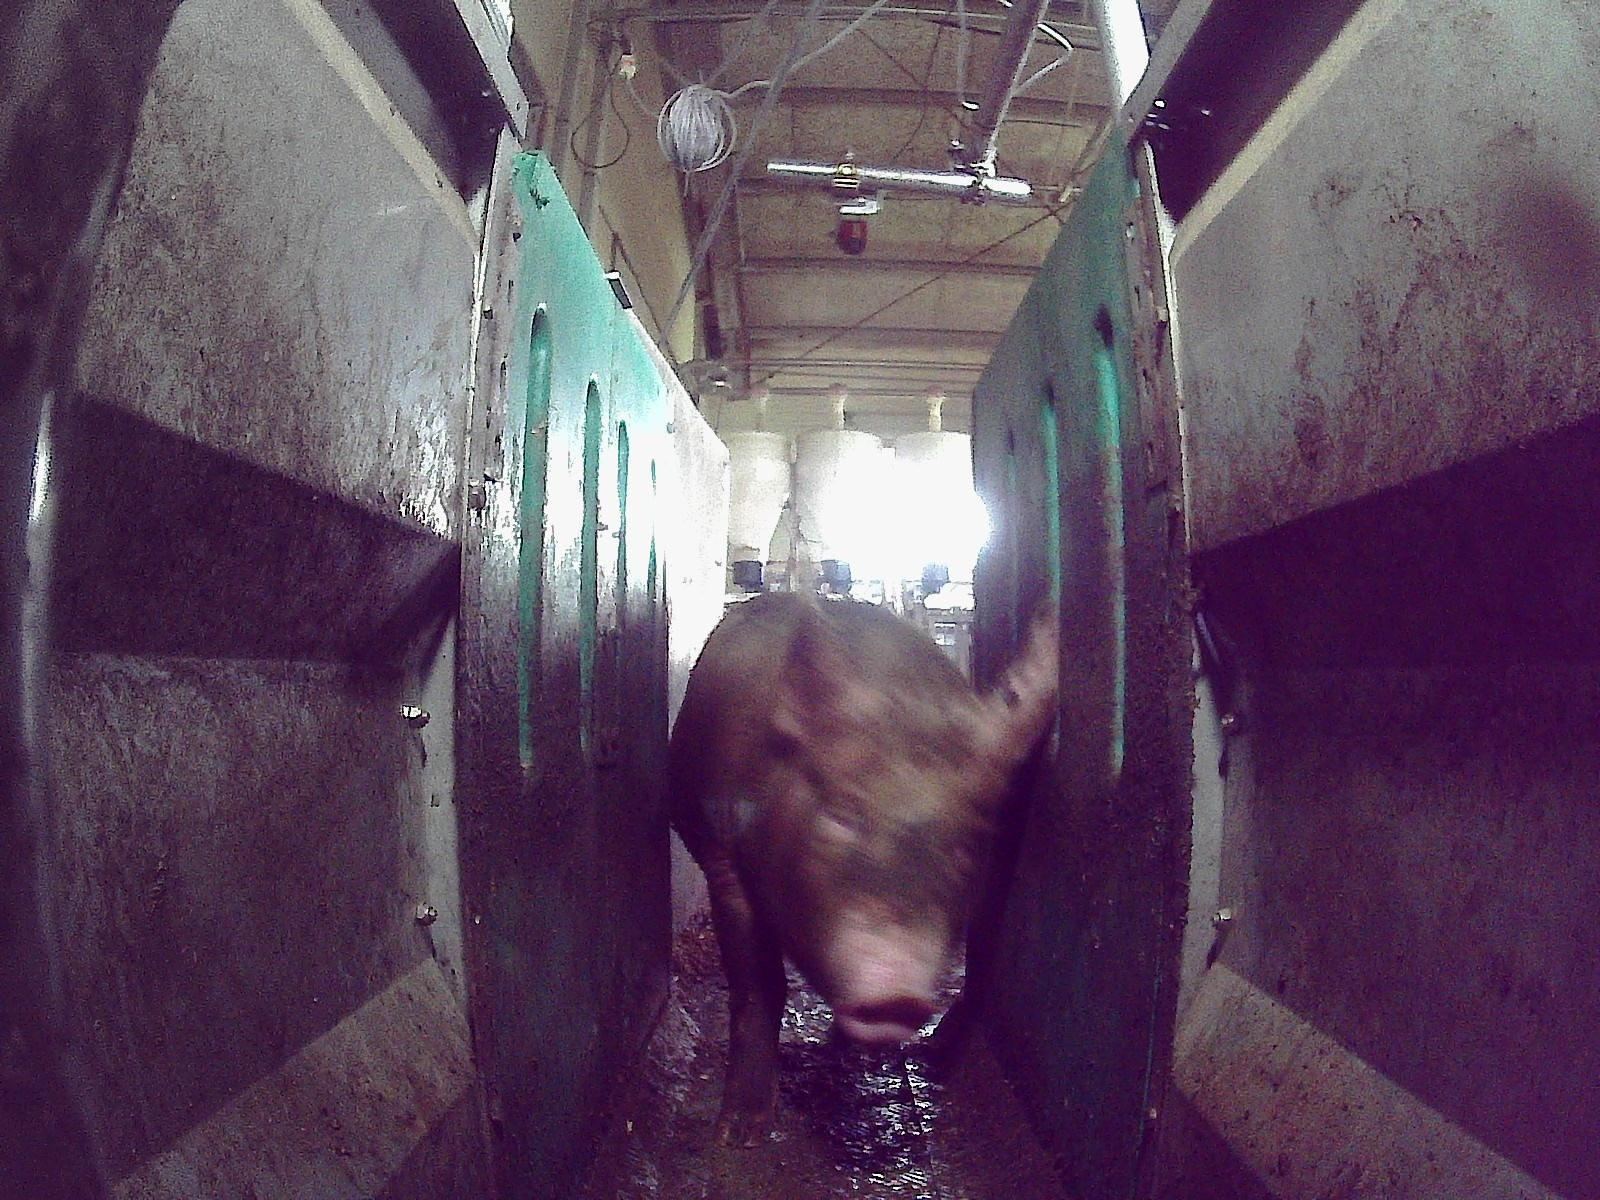Face: (783, 709, 990, 1038)
